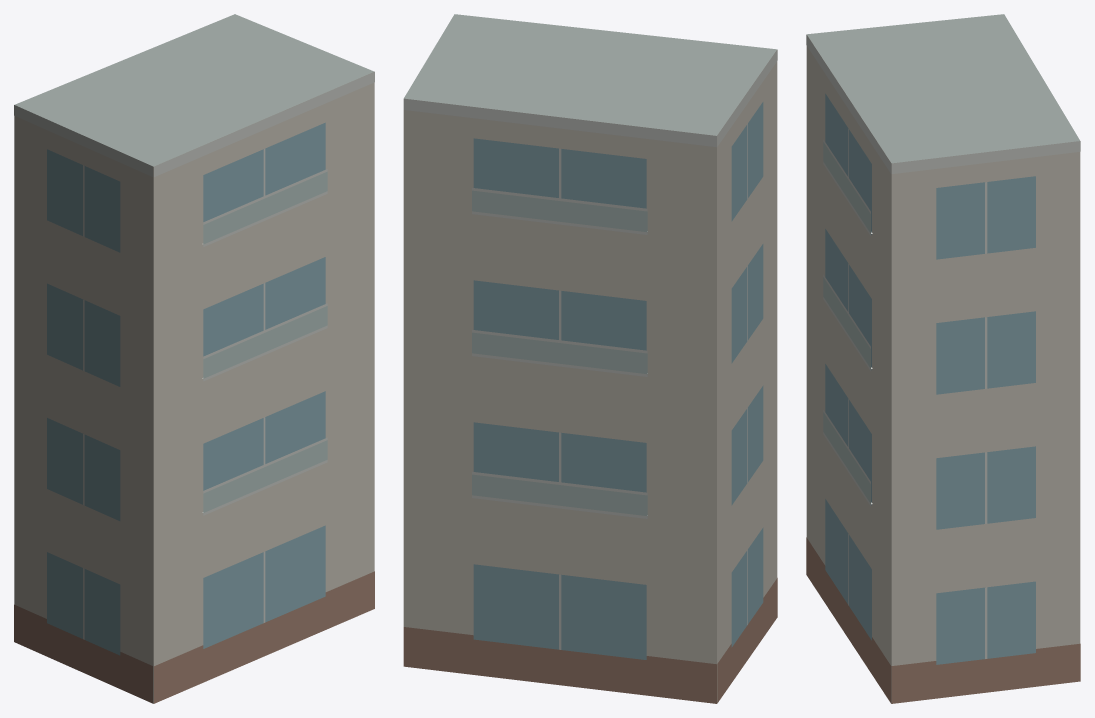
Rendered from survey-upis-32568878.glb.
3 views of the same model, side by side, from view 1: azimuth 30°, elevation 25°; view 2: azimuth 150°, elevation 25°; view 3: azimuth 270°, elevation 25° (orthographic). The views are drawn at different scales.
Parts seen in each view (by area): view 1: survey-upis-32568878.tmp; view 2: survey-upis-32568878.tmp; view 3: survey-upis-32568878.tmp.
Boxes of the visible parts, left/top/right/bottom form: survey-upis-32568878.tmp: left=14, top=14, right=374, bottom=703; survey-upis-32568878.tmp: left=403, top=14, right=777, bottom=703; survey-upis-32568878.tmp: left=806, top=14, right=1080, bottom=703.
Bounding box in the file's own units: 7.24 × 12.2 × 5.61.
